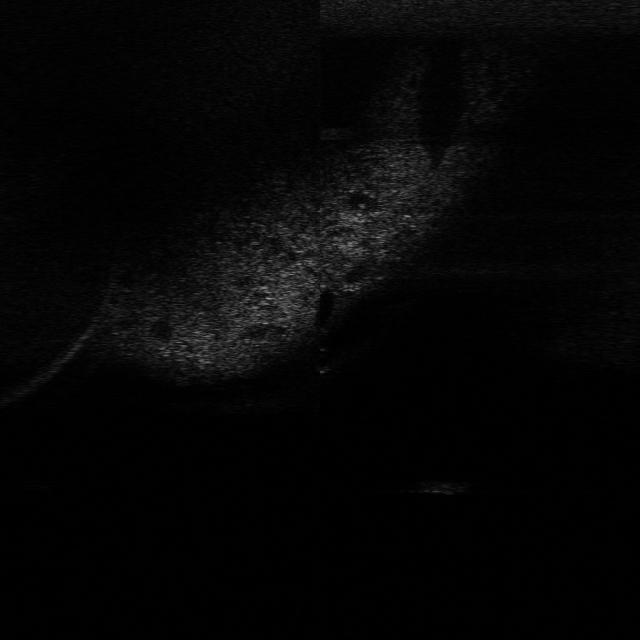ball: (412, 474, 469, 497)
cube: (308, 345, 337, 375)
